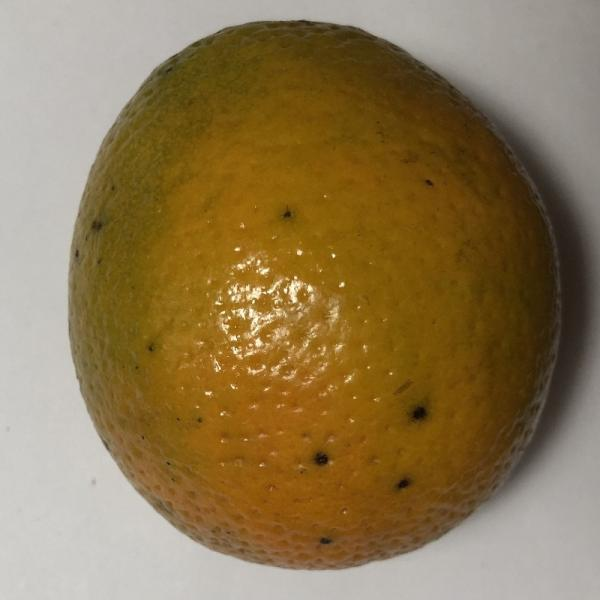Machas negras: (54, 0, 577, 582)
